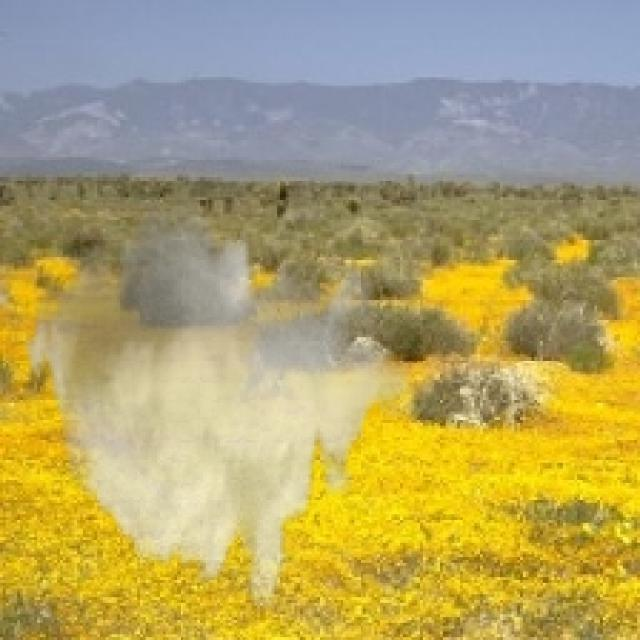smoke: (20, 188, 411, 612)
